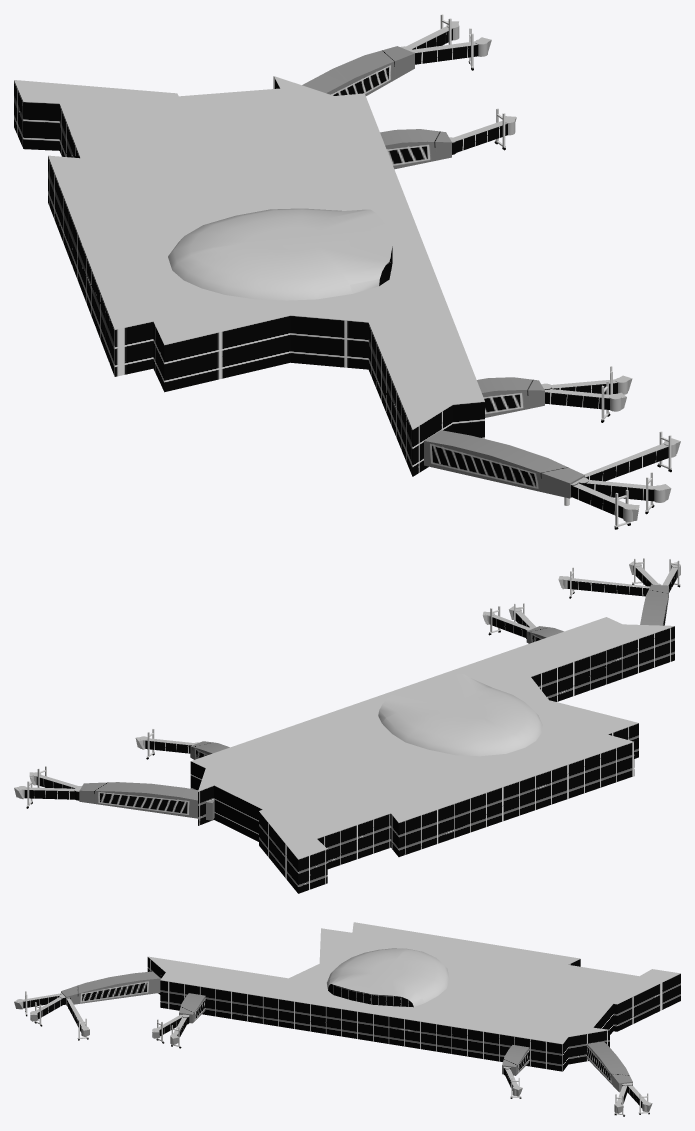
The model's file is TFNAirport.glb.
3 views of the same model, one above another, from view 1: azimuth 30°, elevation 25°; view 2: azimuth 150°, elevation 25°; view 3: azimuth 270°, elevation 25° (orthographic). The views are drawn at different scales.
Visible parts, largest first — view 1: Buffer Object 50, Buffer Object 42, Buffer Object 33, Buffer Object 48, Buffer Object 49, Buffer Object 18 (×3), Buffer Object 47, Buffer Object 46; view 2: Buffer Object 50, Buffer Object 42, Buffer Object 33, Buffer Object 49, Buffer Object 48, Buffer Object 18; view 3: Buffer Object 50, Buffer Object 42, Buffer Object 33, Buffer Object 48, Buffer Object 49, Buffer Object 51, Buffer Object 47, Buffer Object 46.
Part boxes in pixels (left/top/right/bottom): Buffer Object 50: left=14, top=76, right=484, bottom=429; Buffer Object 42: left=14, top=76, right=484, bottom=476; Buffer Object 33: left=168, top=208, right=392, bottom=300; Buffer Object 48: left=424, top=430, right=584, bottom=498; Buffer Object 49: left=302, top=46, right=414, bottom=95; Buffer Object 18 (×3): left=413, top=45, right=668, bottom=481; Buffer Object 47: left=380, top=129, right=451, bottom=169; Buffer Object 46: left=477, top=377, right=544, bottom=417; Buffer Object 50: left=191, top=617, right=673, bottom=859; Buffer Object 42: left=190, top=626, right=674, bottom=893; Buffer Object 33: left=378, top=673, right=542, bottom=756; Buffer Object 49: left=79, top=782, right=214, bottom=820; Buffer Object 48: left=640, top=584, right=668, bottom=625; Buffer Object 18: left=567, top=580, right=648, bottom=596; Buffer Object 50: left=148, top=922, right=680, bottom=1043; Buffer Object 42: left=147, top=957, right=680, bottom=1071; Buffer Object 33: left=327, top=948, right=449, bottom=1006; Buffer Object 48: left=61, top=971, right=160, bottom=1005; Buffer Object 49: left=586, top=1041, right=632, bottom=1092; Buffer Object 51: left=328, top=984, right=413, bottom=1007; Buffer Object 47: left=502, top=1045, right=529, bottom=1075; Buffer Object 46: left=179, top=993, right=205, bottom=1023.
Bounding box in the file's own units: 202 × 20.92 × 332.
Materials: 61 (15 with a texture image).
